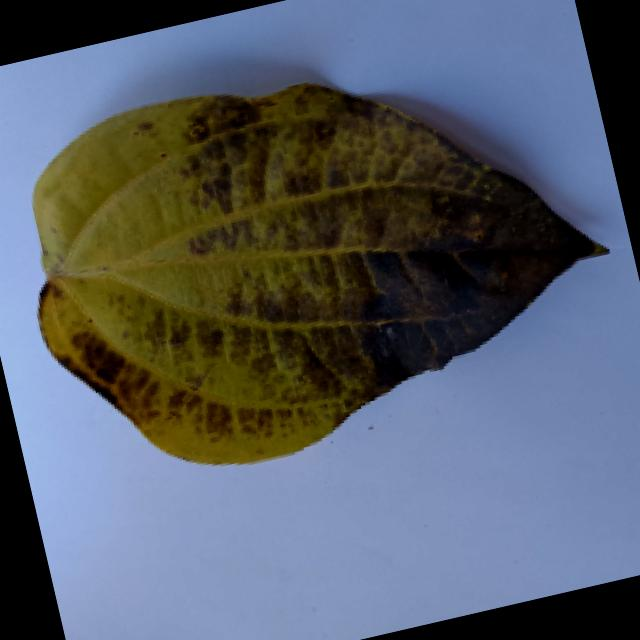slow-decline: (3, 8, 640, 507)
